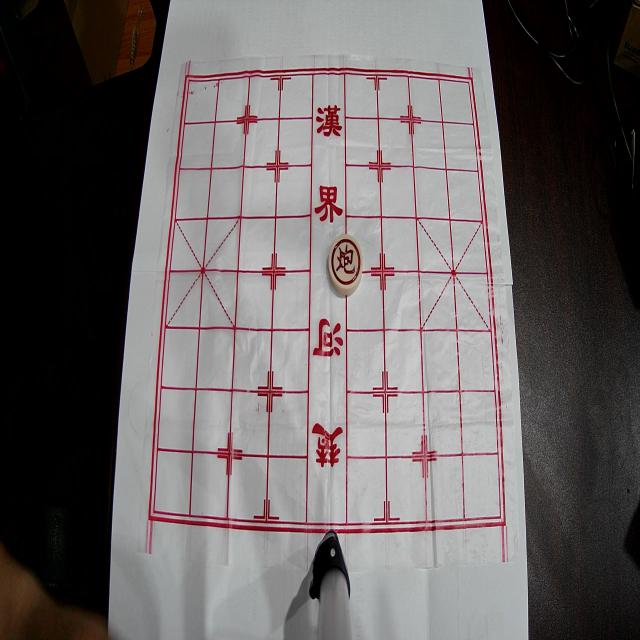red-cannon: (328, 234, 362, 296)
